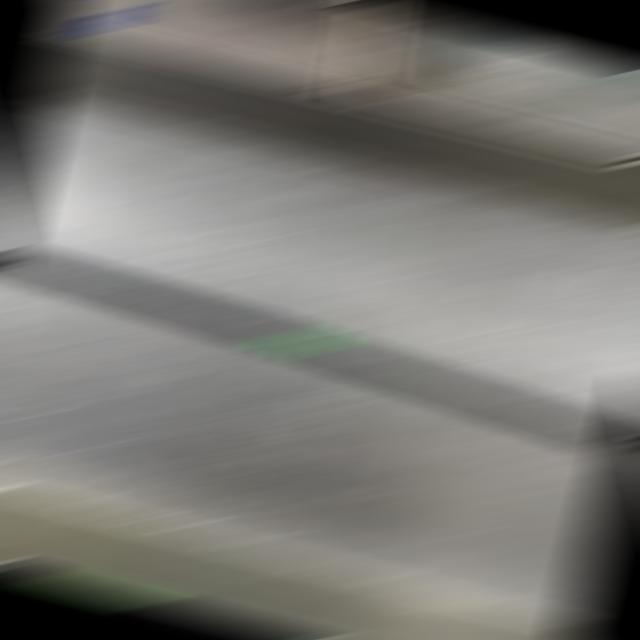green: (263, 330, 341, 355)
